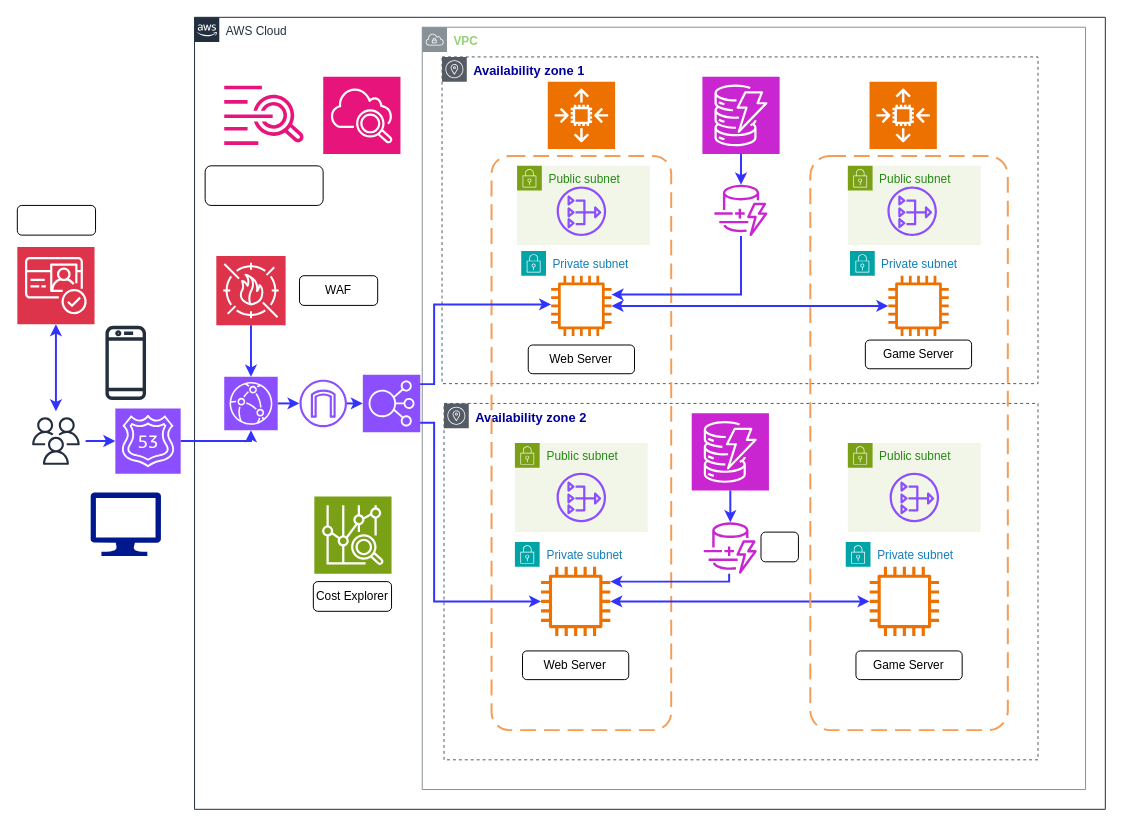
This 1123x827 diagram has some shape labels left out. The shapes that lost their labels are listed below. From the top down, each one's centre as x and y in pixels, then its label:
At [263,185]: "Cloudwatch logs".
At [56,219]: "Cognito".
At [55,440]: "Players".
At [779,546]: "DAX".
